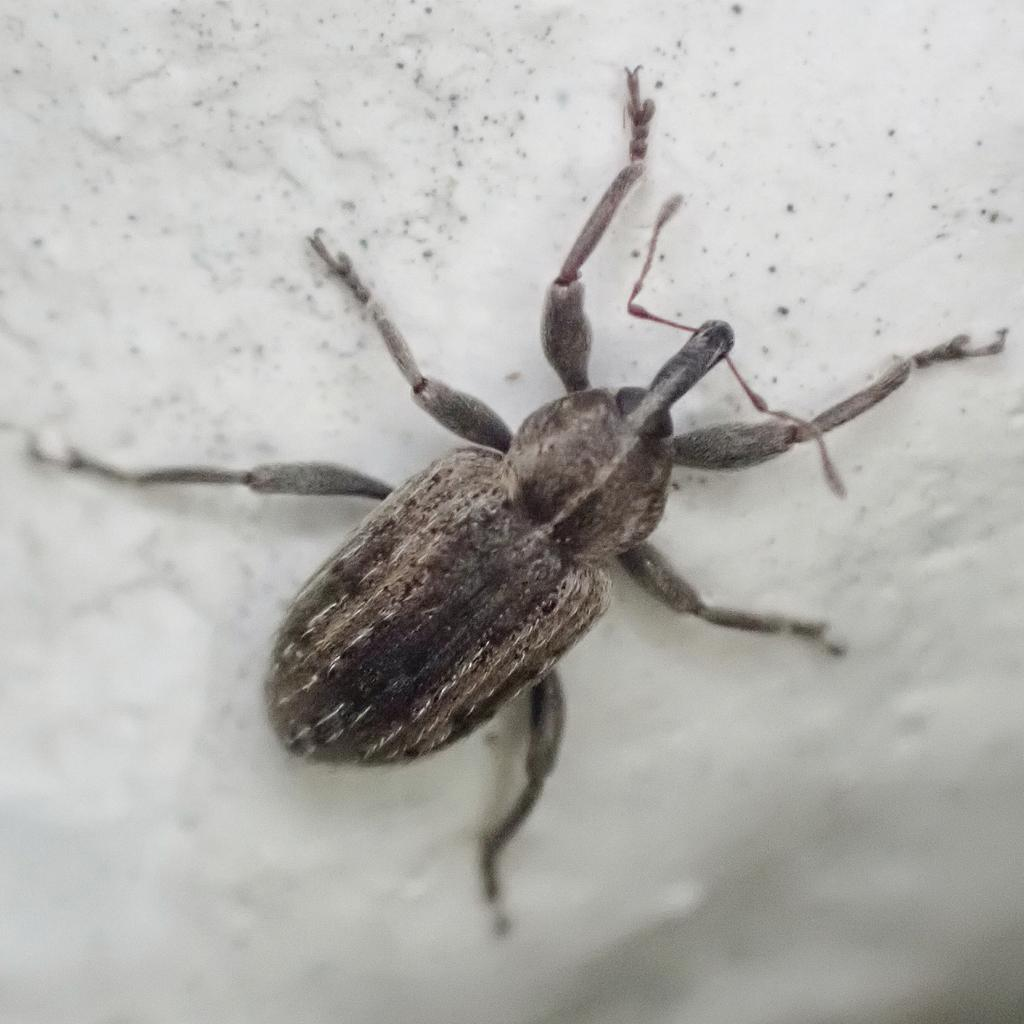weevils: (0, 17, 1024, 994)
